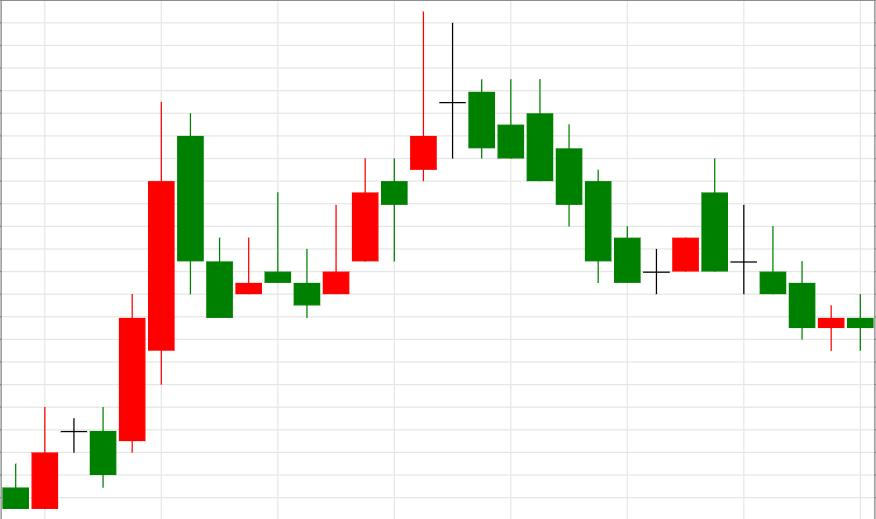evening_star_fall: (294, 12, 495, 317)
